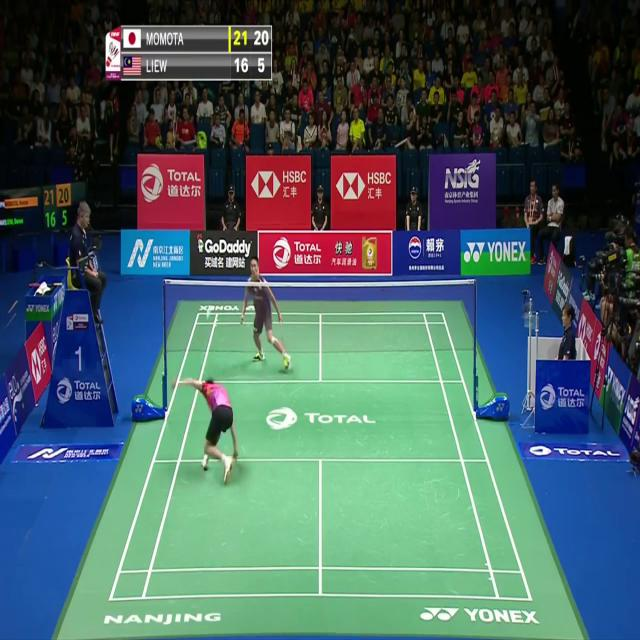Shuttlecock: (205, 309, 212, 320)
